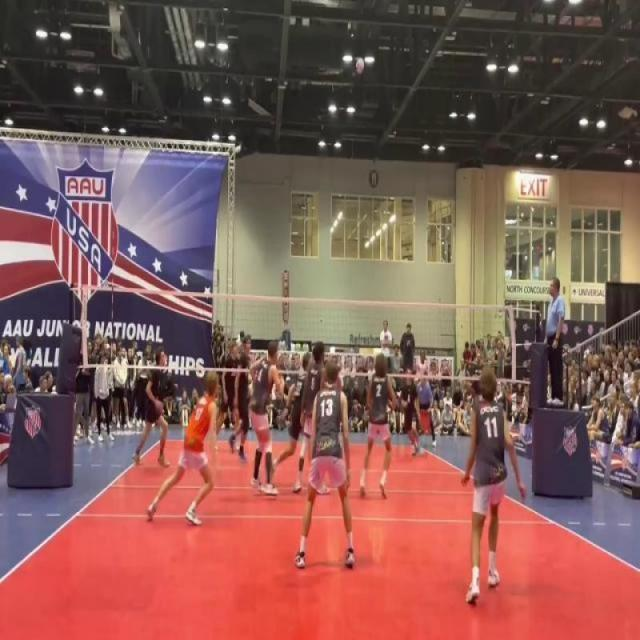volleyball: (355, 56, 365, 76)
